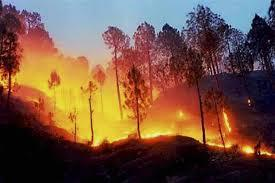fire: (4, 41, 274, 158)
